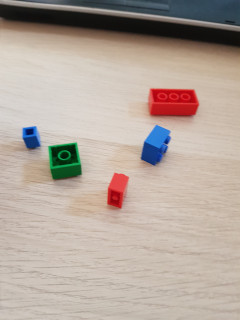1x1 blue: (21, 126, 41, 150)
1x2 red: (107, 172, 130, 208)
2x2 blue: (141, 125, 172, 168)
2x2 green: (48, 141, 83, 180)
2x4 red: (149, 87, 199, 117)
